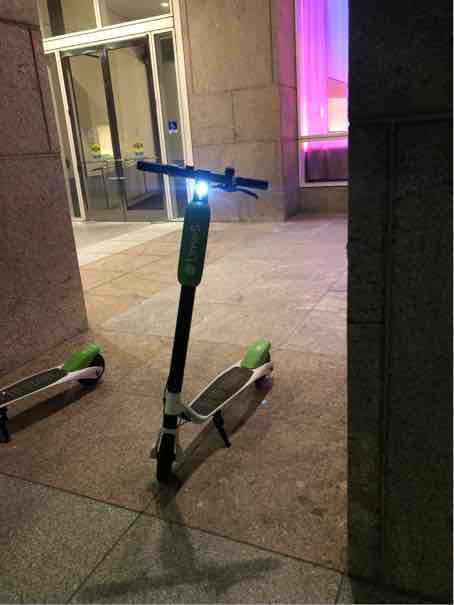scooter: (142, 153, 289, 499)
